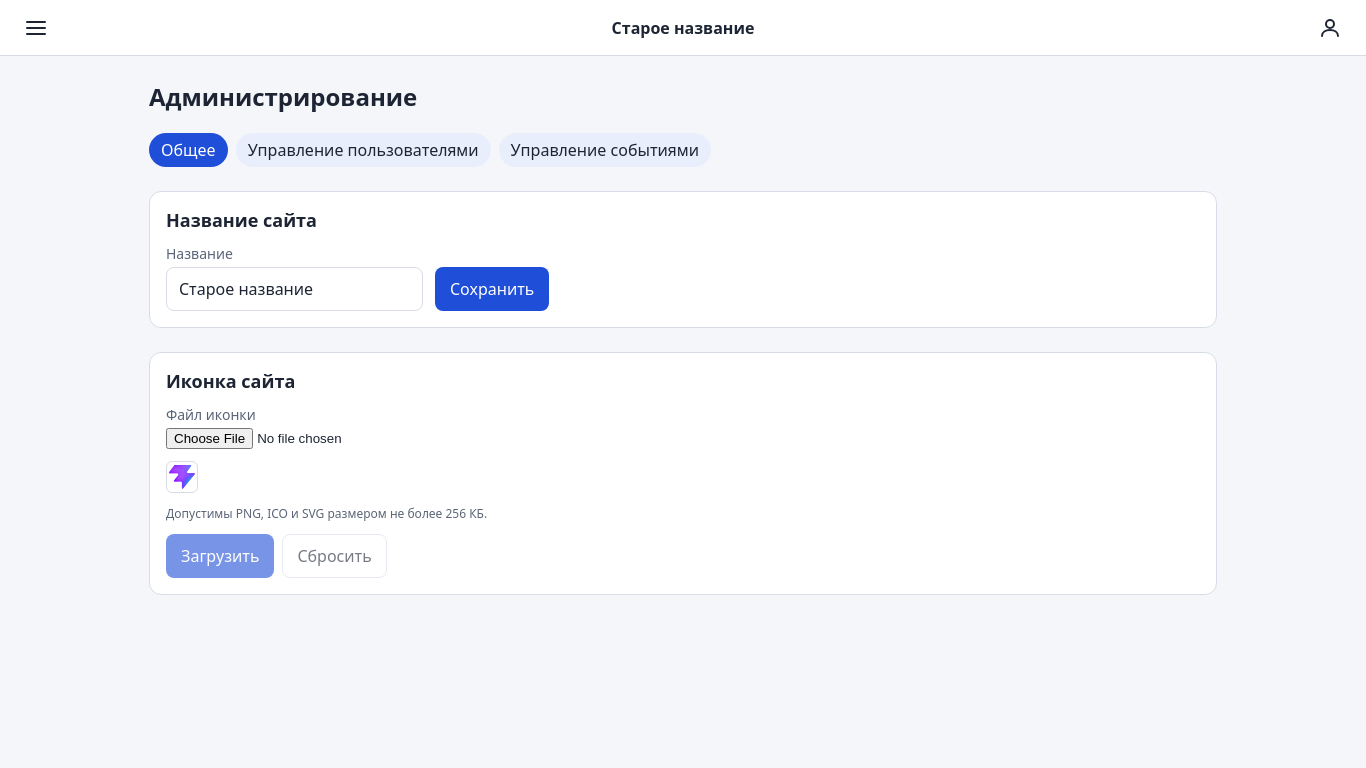
Test: раздел «Администрирование» › смена названия сайта обновляет хедер
Replace the text in the field labelled "Название" with "Новое название" at (294, 289), box [166, 267, 423, 311]
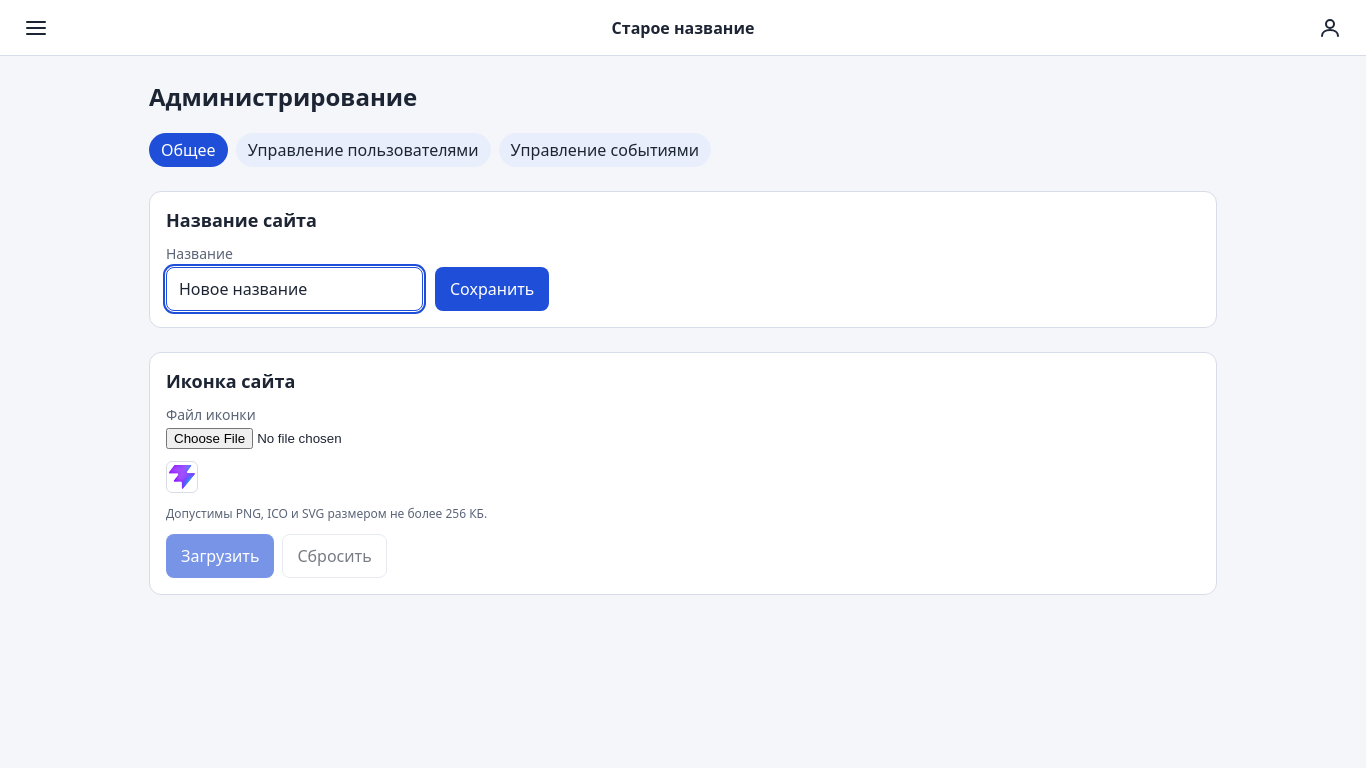
Click the button "Сохранить" at (492, 289), box [435, 267, 549, 311]
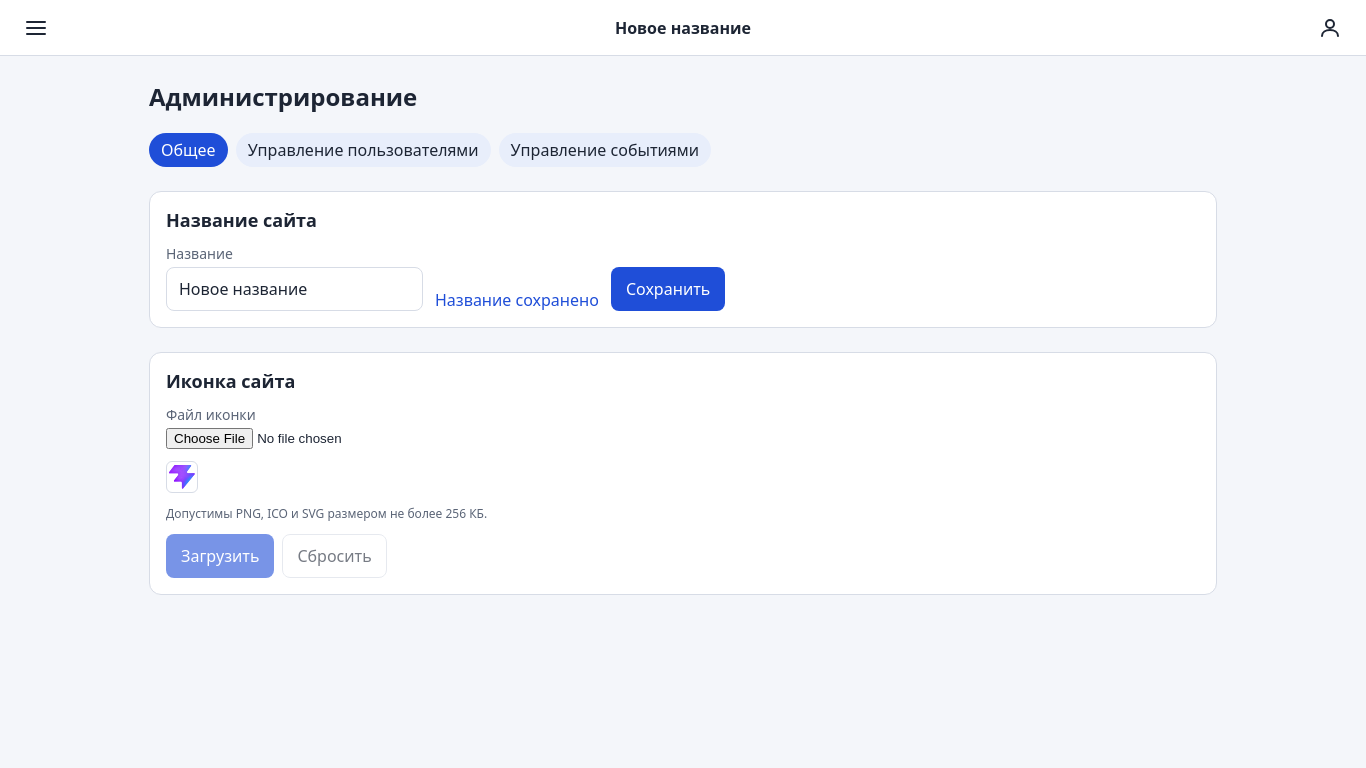
Expected: the link "Новое название" is shown, [615, 16, 751, 38]
